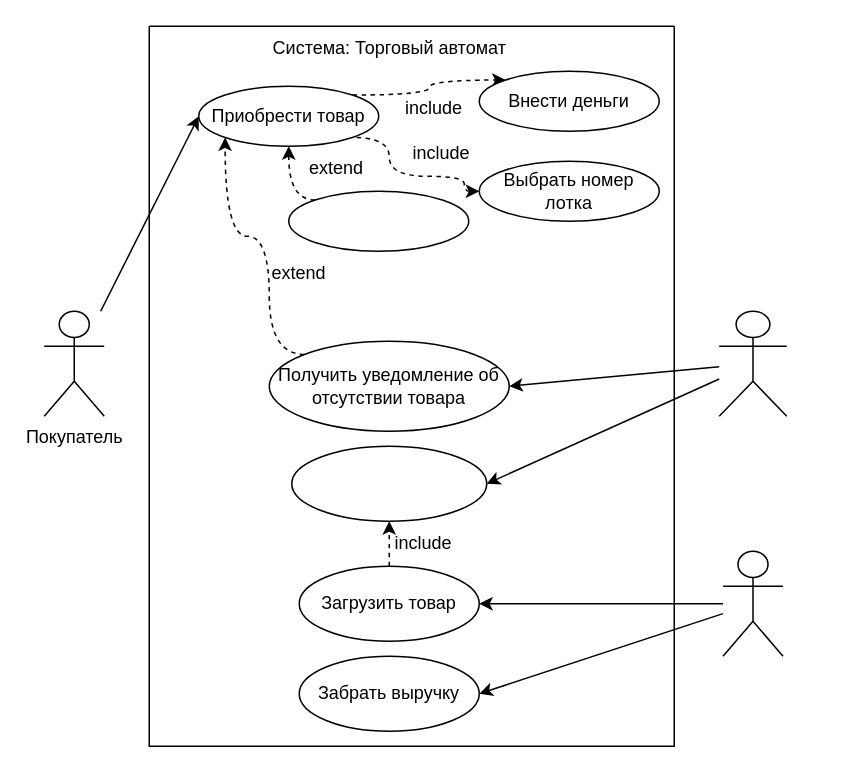
This 851x773 diagram has some shape labels left out. The shapes that lost their labels are listed below. From the top down, each one's centre as x and y in pixels, then its label:
At pixel 378 220: "Вернуть деньги".
At pixel 752 363: "Станция обслуживания".
At pixel 388 483: "Отправить данные о товарах".
At pixel 752 603: "Обслуживающий персонал".
